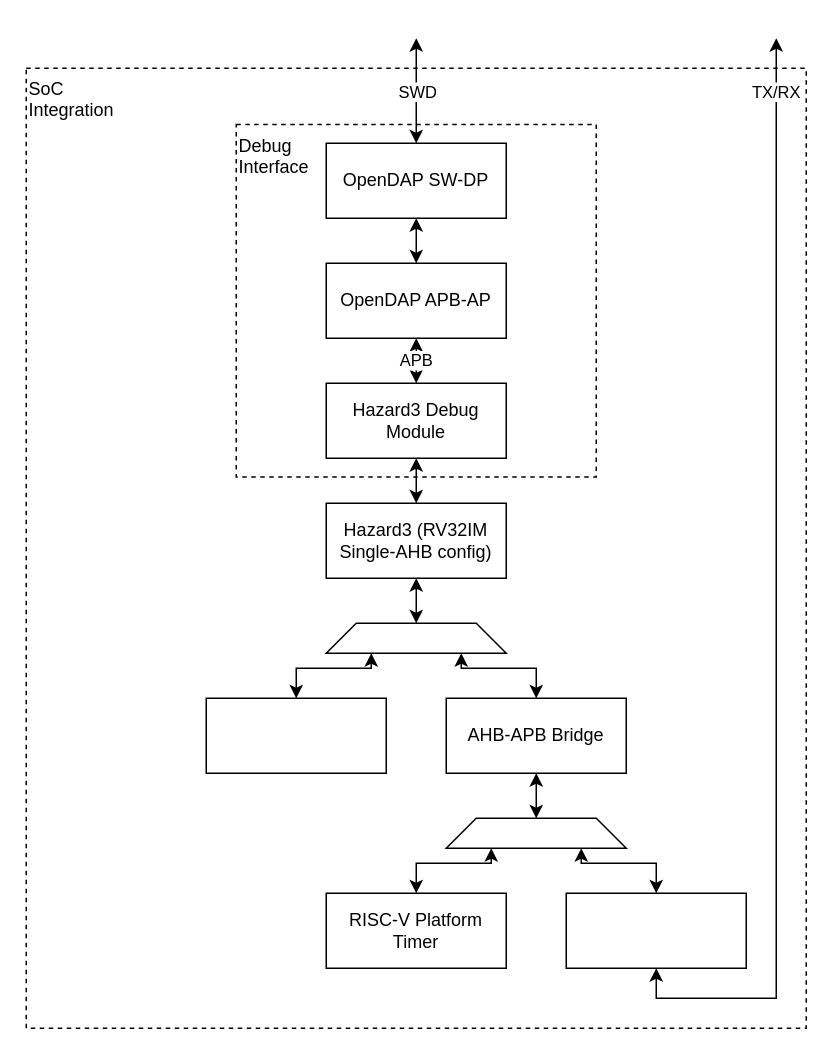
Some shapes in this 833 by 1055 pixel diagram are drawn without their labels. Here are the shapes that lost their labels. From the top down, the centre of each, then its label:
(x=415, y=637): AHB Split
(x=295, y=735): SRAM 32b-wide 128 kiB
(x=535, y=832): APB Split
(x=655, y=930): UART
